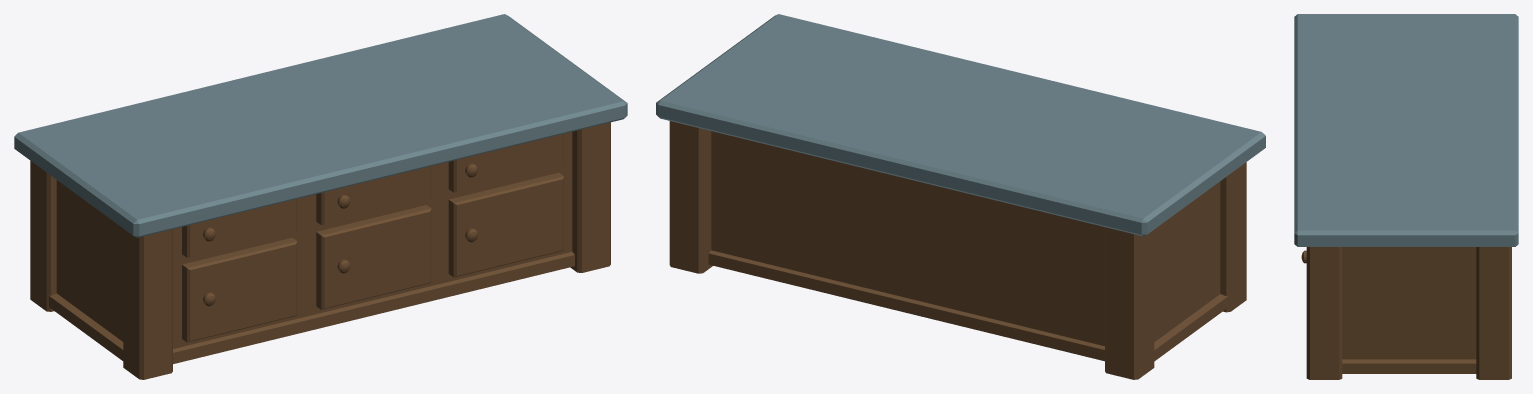
Rendered from KitchenIsland.fbx.
3 views of the same model, side by side, from view 1: azimuth 30°, elevation 25°; view 2: azimuth 150°, elevation 25°; view 3: azimuth 270°, elevation 25° (orthographic). The views are drawn at different scales.
Parts seen in each view (by area): view 1: KitchenIsland; view 2: KitchenIsland; view 3: KitchenIsland.
Boxes of the visible parts, x1,y1,x2,y2 form: KitchenIsland: (14, 14, 627, 379); KitchenIsland: (656, 14, 1265, 379); KitchenIsland: (1294, 14, 1518, 379).
Size of the model in its own units: 391 by 126 by 168.
